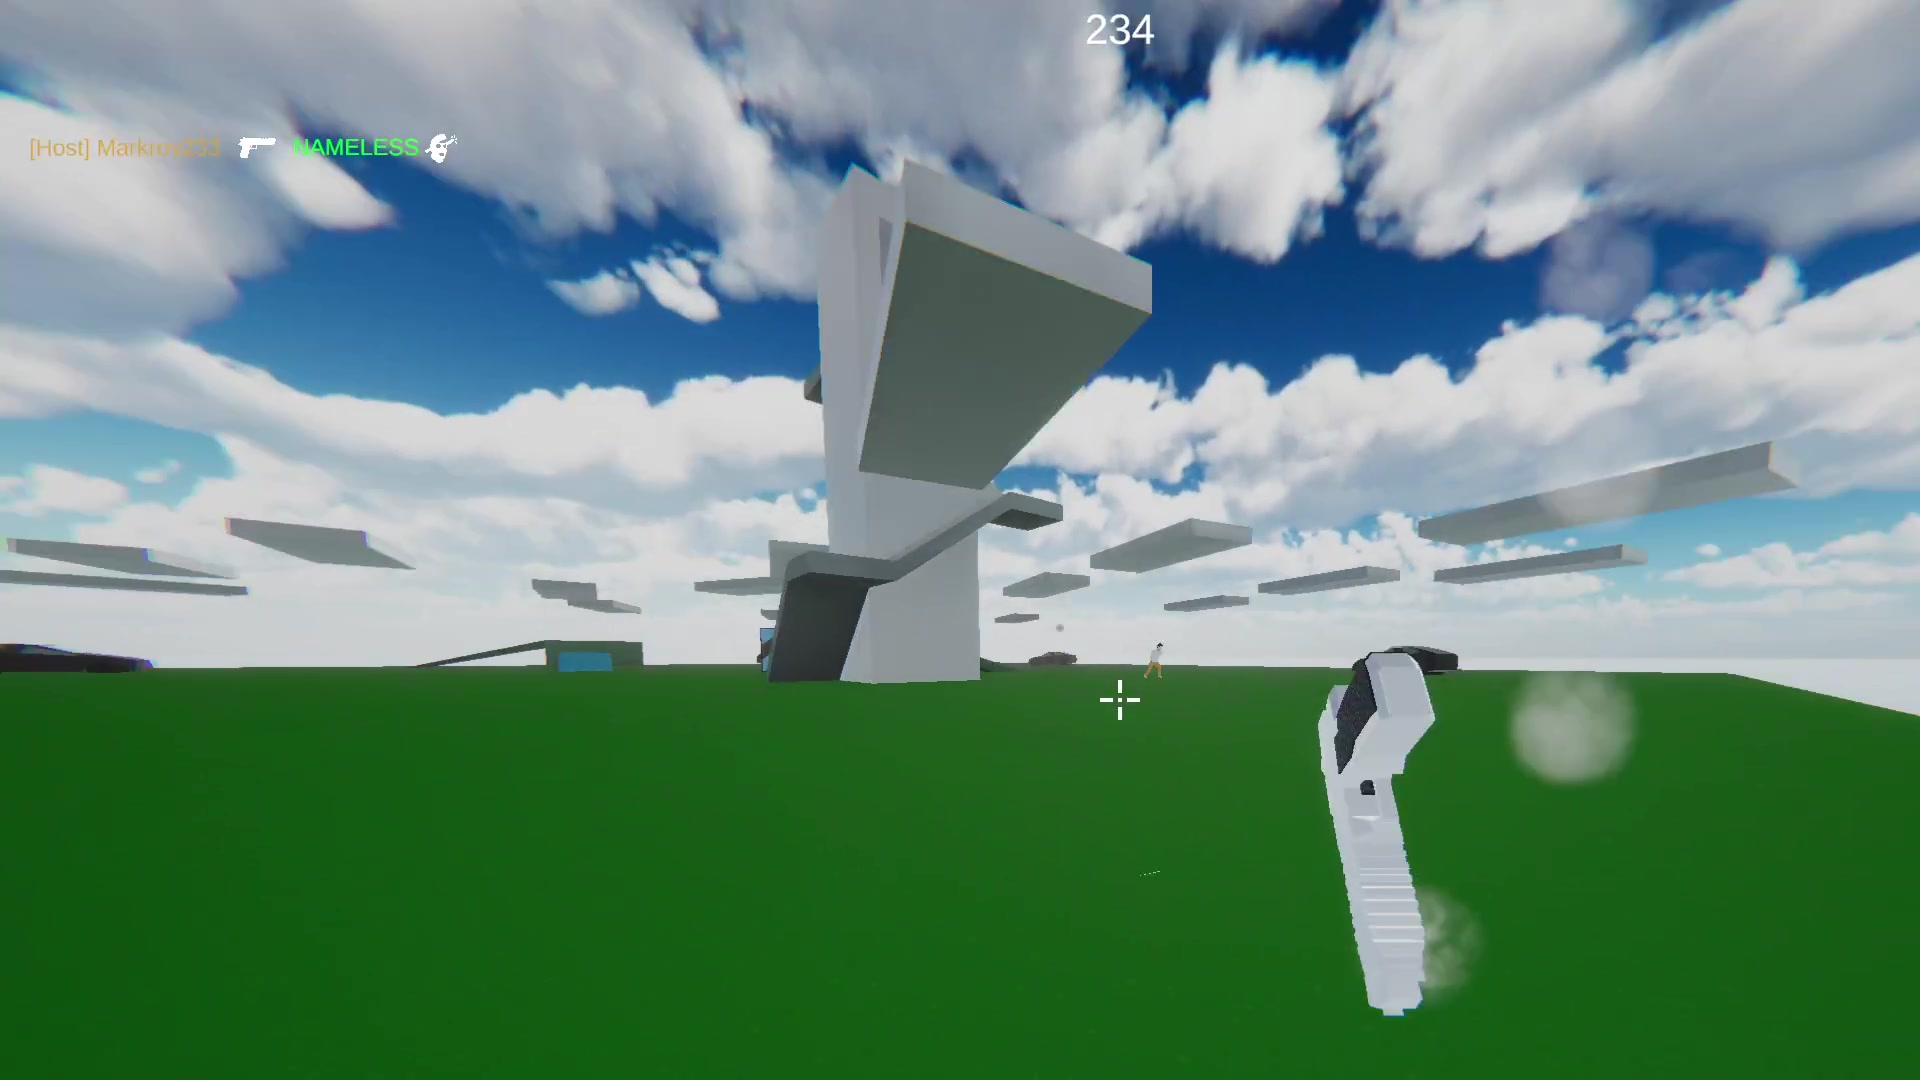human: (1147, 639, 1167, 685)
